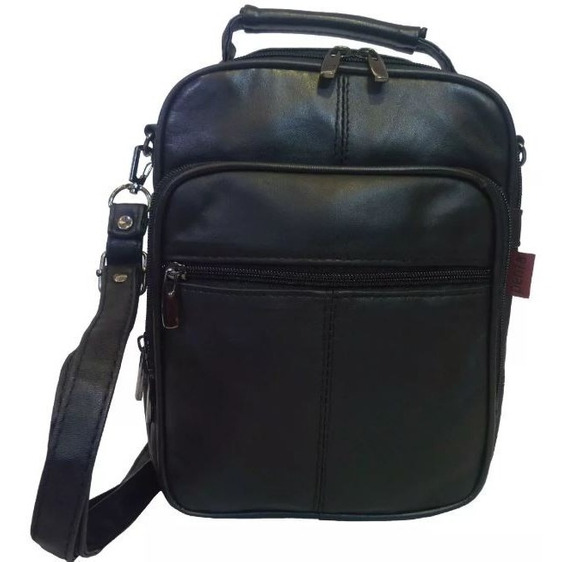cartera: (140, 3, 525, 524)
